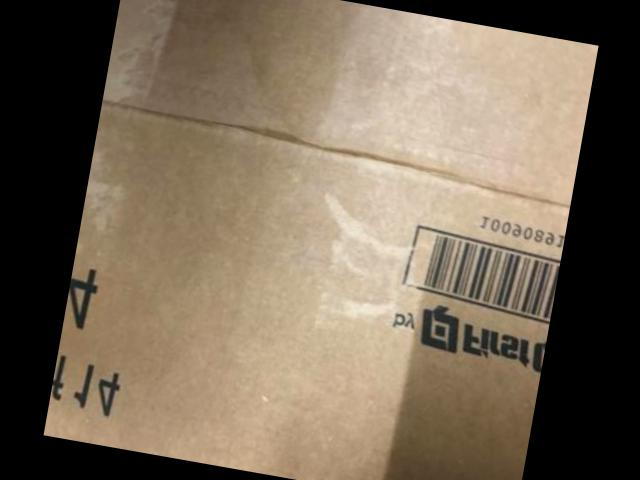cardboard paper: (42, 0, 598, 480)
